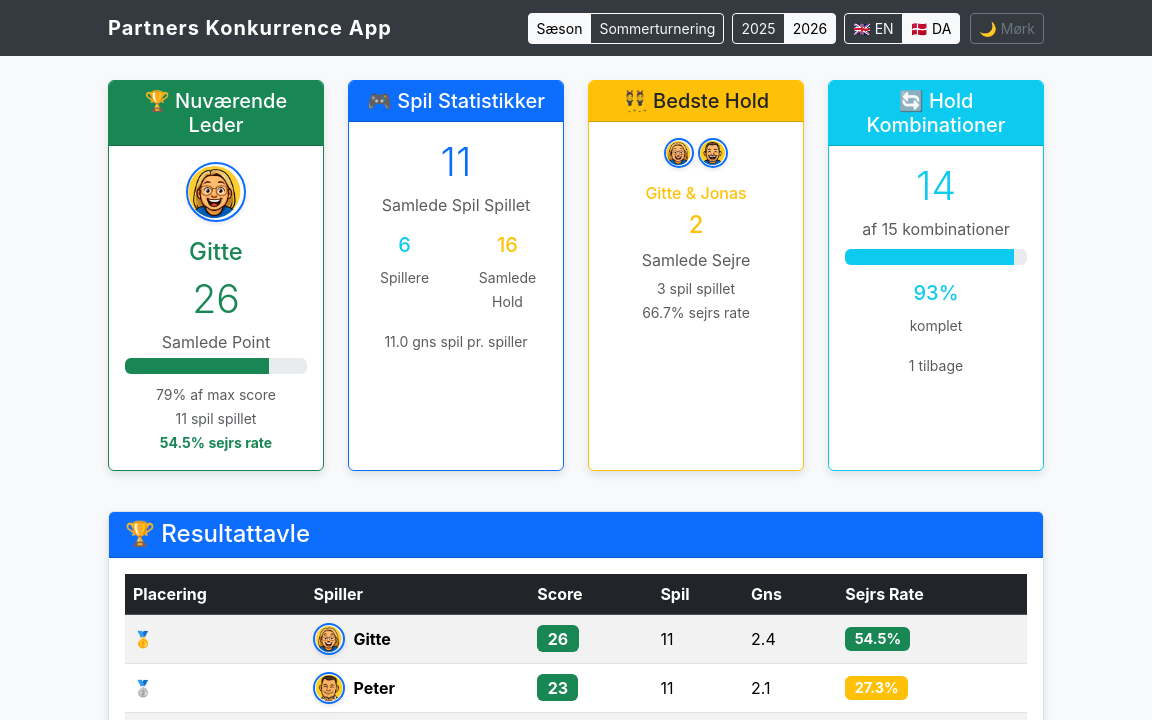
App — Summer Tournament tab › switching back to Season restores the season components
Step 1. Click the button "Sommerturnering" → coordinates (657, 28), box [590,12,724,44]
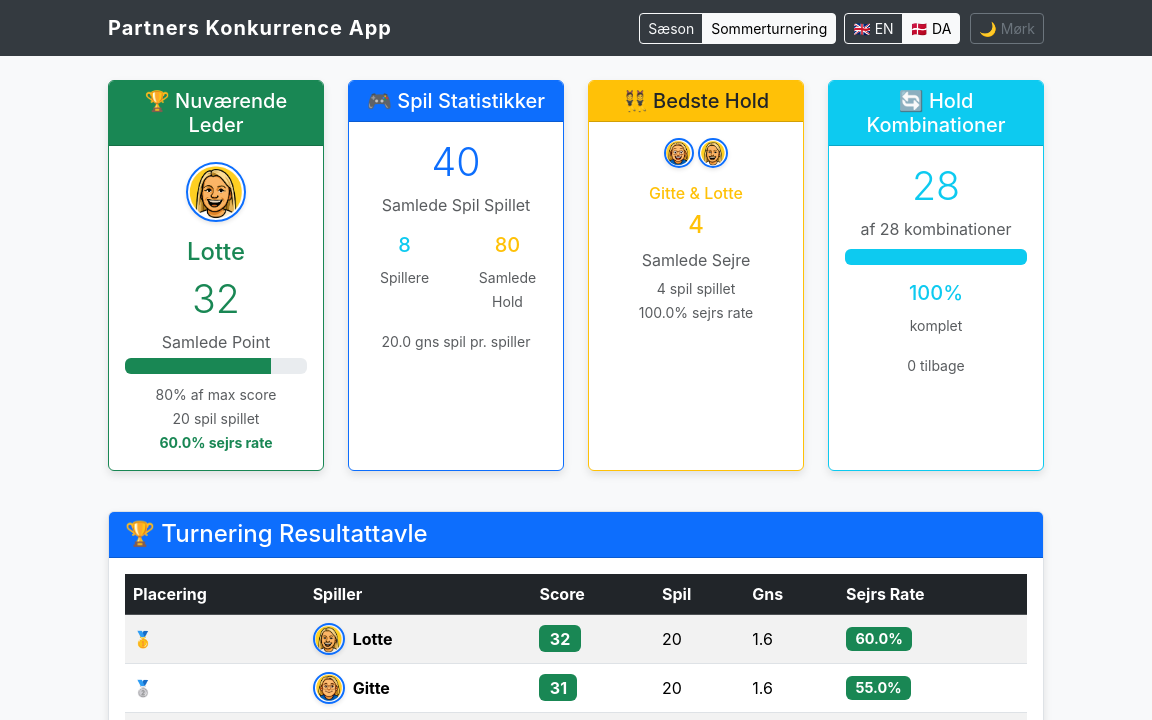
Step 2. Click the button "Sæson" → coordinates (671, 28), box [639,12,703,44]
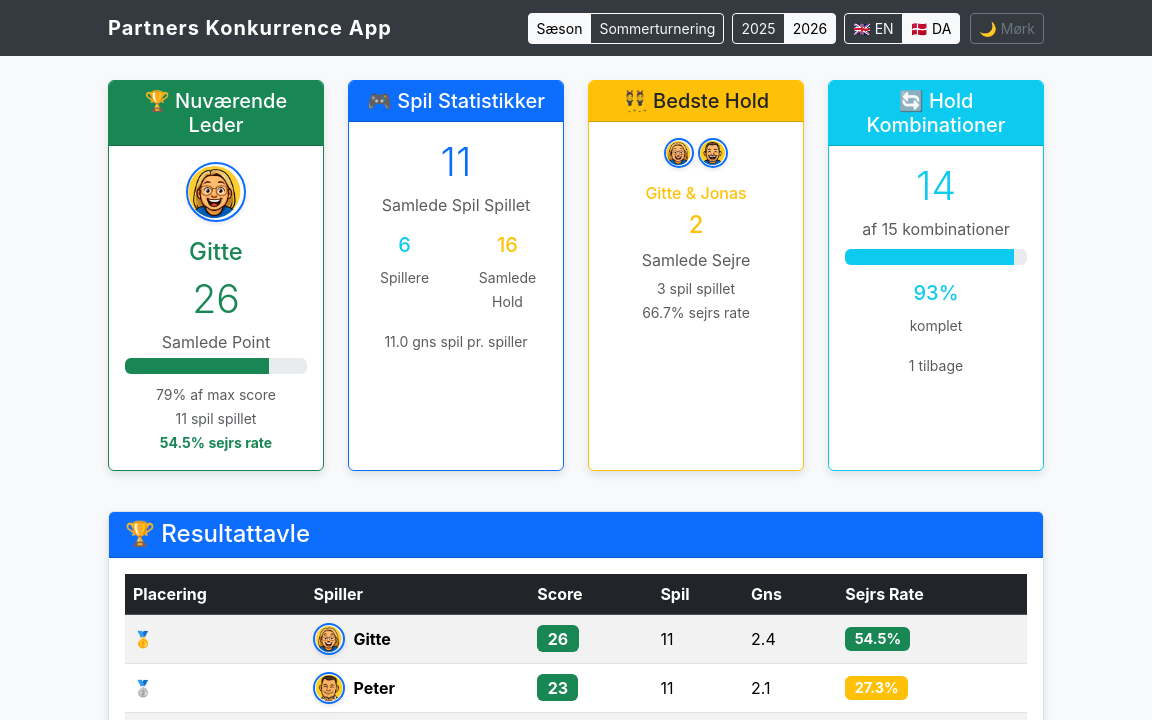
Check: the button "2025" is shown, box [732,12,785,44]
